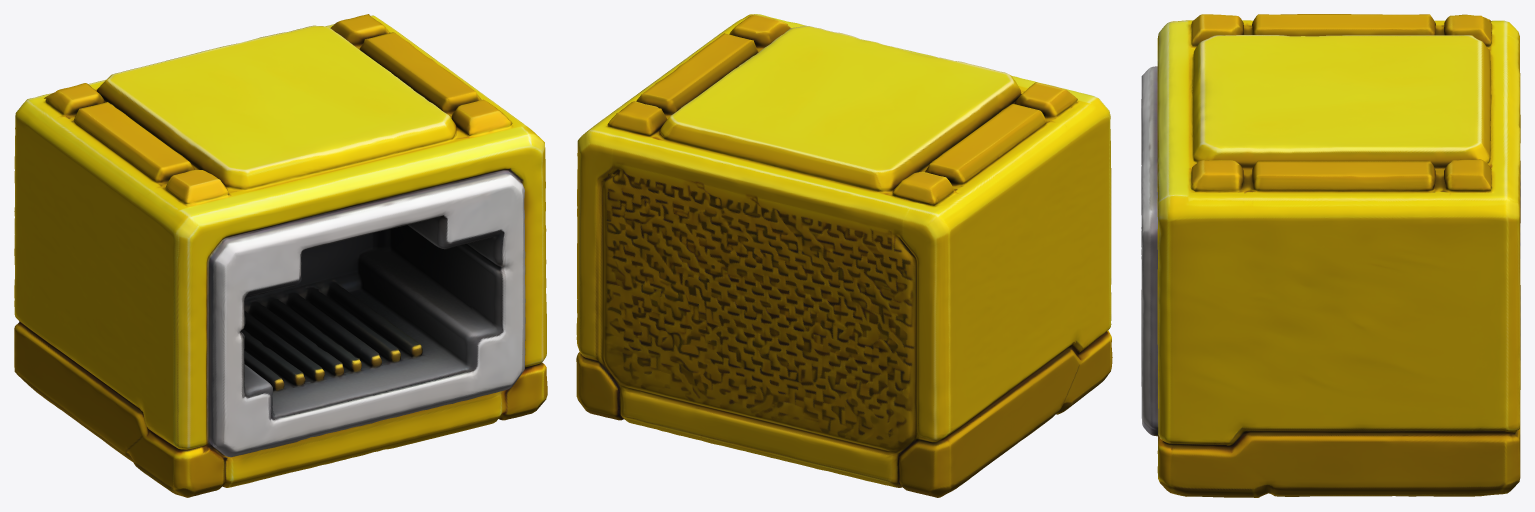
The model's file is yellow_socket.fbx.
The picture shows the model from 3 angles, left to right: view 1: azimuth 30°, elevation 25°; view 2: azimuth 150°, elevation 25°; view 3: azimuth 270°, elevation 25°; orthographic projection. The views are drawn at different scales.
Visible parts, largest first — view 1: model.001; view 2: model.001; view 3: model.001.
Boxes of the visible parts, <box> form: model.001: <box>14,14,547,497</box>; model.001: <box>576,14,1112,497</box>; model.001: <box>1141,14,1520,497</box>.
Size of the model in its own units: 99.04 by 76.55 by 83.04.
Materials: 1 (1 with a texture image).
